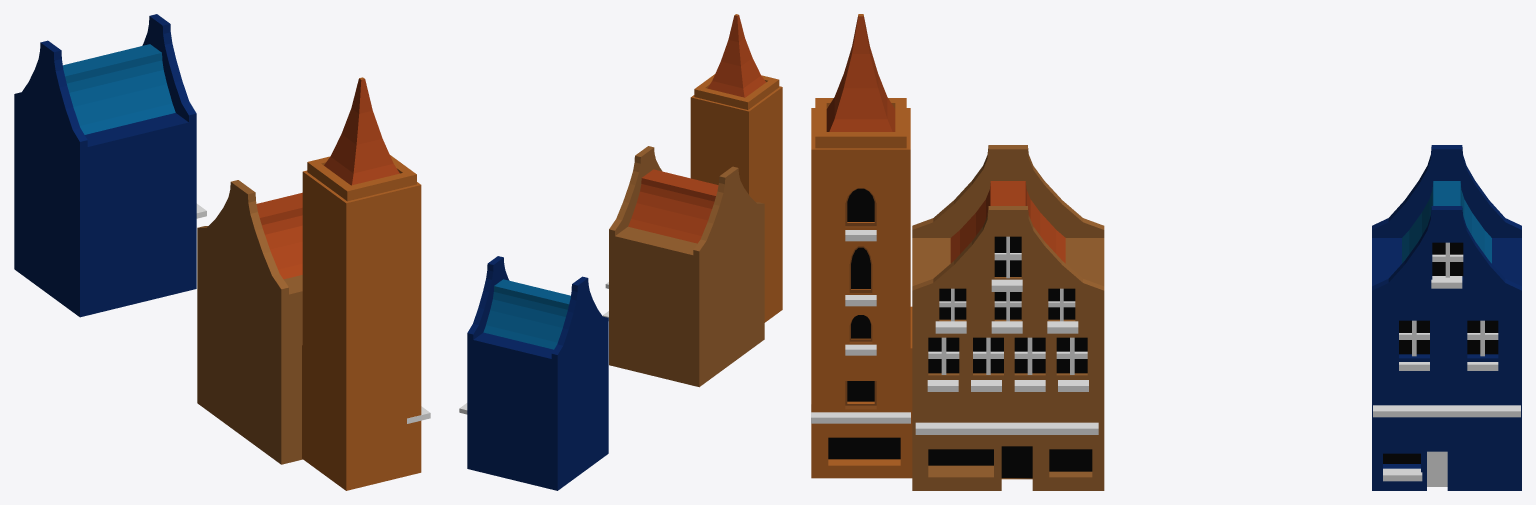
The model's file is oud gebouwen met kleur.glb.
3 renders of one model, left to right at view 1: azimuth 30°, elevation 25°; view 2: azimuth 150°, elevation 25°; view 3: azimuth 270°, elevation 25°, orthographic. The views are drawn at different scales.
Visible parts, largest first — view 1: Cube.001, Cube.004; view 2: Cube.001, Cube.004; view 3: Cube.001, Cube.004, Cube.010.
Part boxes in pixels (x1,y1,x2,y2): Cube.001: (197,77,430,490); Cube.004: (14,14,196,317); Cube.001: (602,14,782,387); Cube.004: (467,256,608,490); Cube.001: (811,14,1104,490); Cube.004: (1372,145,1521,490); Cube.010: (1373,405,1520,417).
Size of the model in its own units: 10.82 by 31.57 by 45.81.
